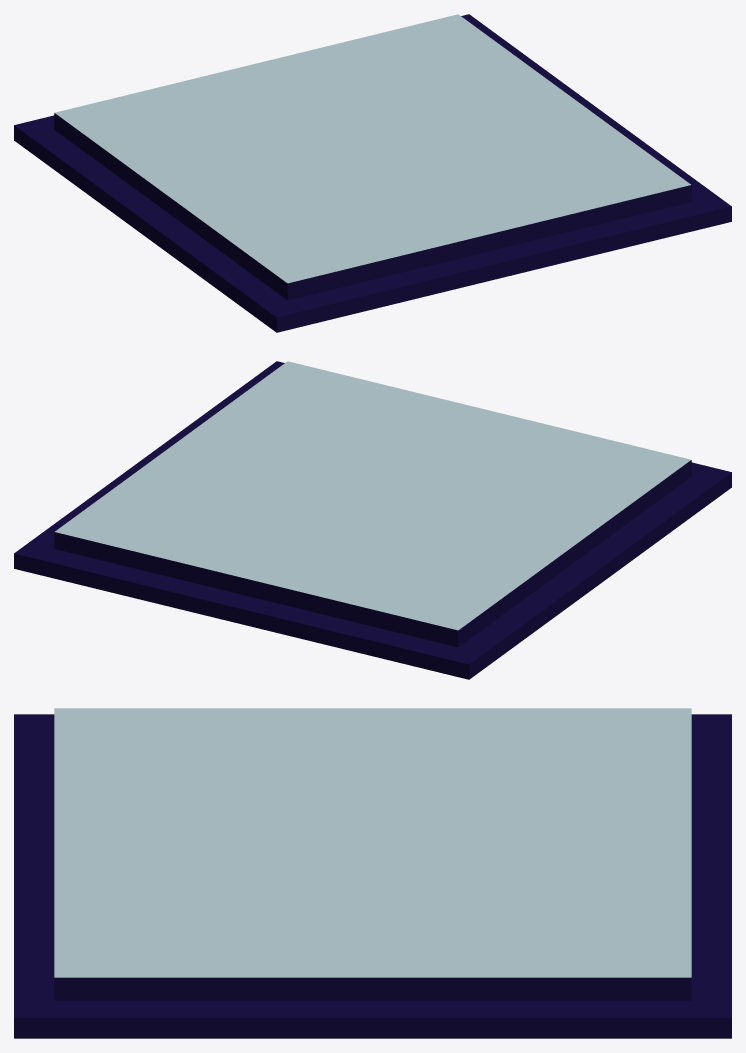
The model's file is DefaultTile.fbx.
3 views of the same model, one above another, from view 1: azimuth 30°, elevation 25°; view 2: azimuth 150°, elevation 25°; view 3: azimuth 270°, elevation 25° (orthographic). The views are drawn at different scales.
Visible parts, largest first — view 1: DefaultTile; view 2: DefaultTile; view 3: DefaultTile.
Boxes of the visible parts, x1=… form: DefaultTile: x1=14, y1=14, x2=731, y2=332; DefaultTile: x1=14, y1=361, x2=731, y2=679; DefaultTile: x1=14, y1=708, x2=731, y2=1038.
Size of the model in its own units: 2 by 0.1355 by 2.
